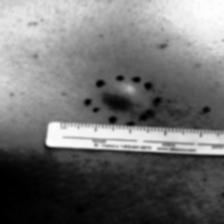Unclassified: (84, 77, 158, 112)
